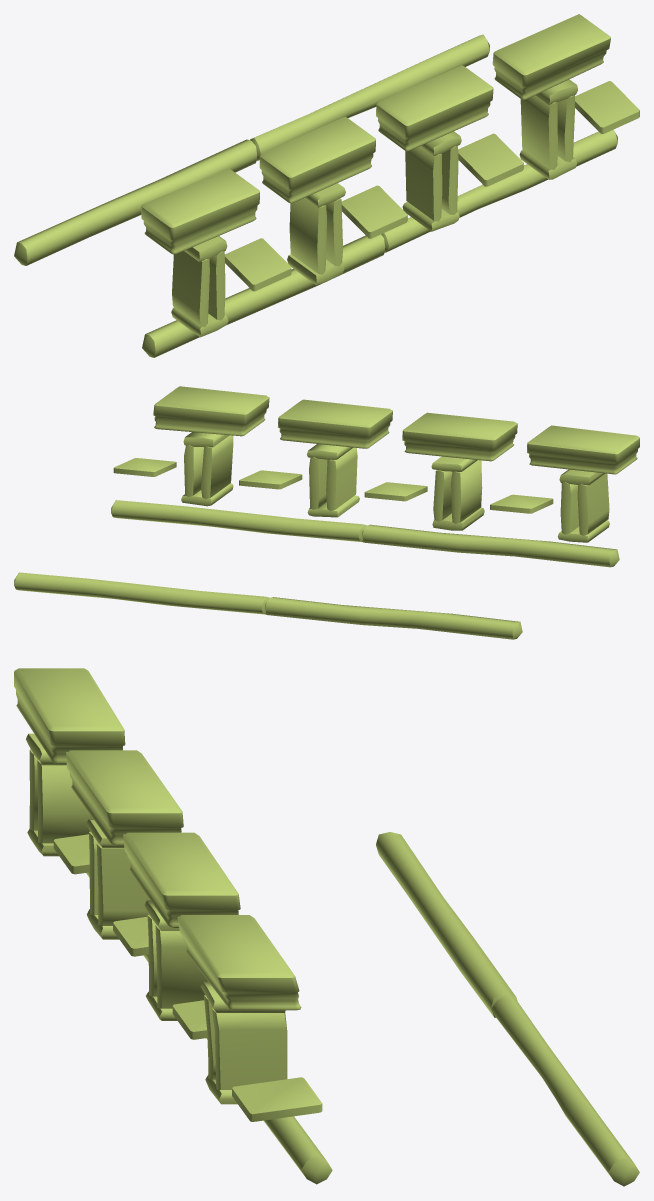
The model's file is wall_outer_10m_angle_a_deco.fbx.
3 views of the same model, one above another, from view 1: azimuth 30°, elevation 25°; view 2: azimuth 150°, elevation 25°; view 3: azimuth 270°, elevation 25° (orthographic). The views are drawn at different scales.
Visible parts, largest first — view 1: Cube.090; view 2: Cube.090; view 3: Cube.090.
Part boxes in pixels (bbox=[...]): Cube.090: bbox=[14, 14, 639, 357]; Cube.090: bbox=[14, 386, 639, 639]; Cube.090: bbox=[14, 668, 639, 1186].
Bounding box in the file's own units: 10.18 × 2.67 × 8.02.
